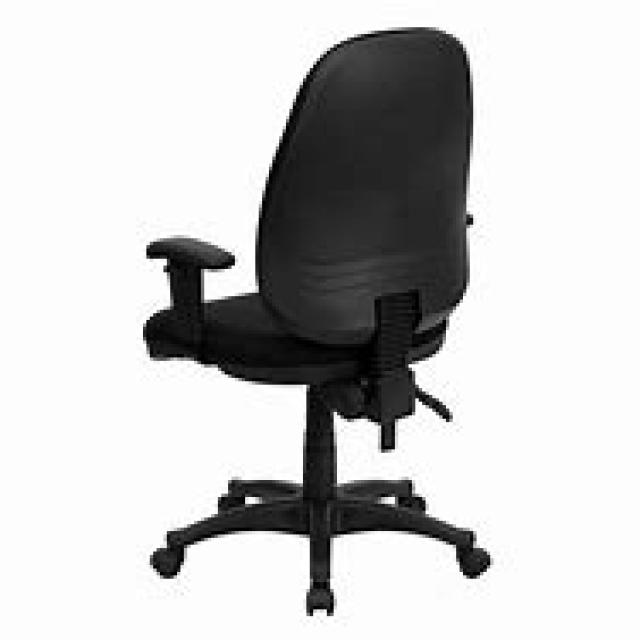chair: (140, 24, 490, 616)
